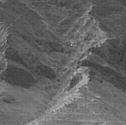Target: (67, 38, 77, 46)
